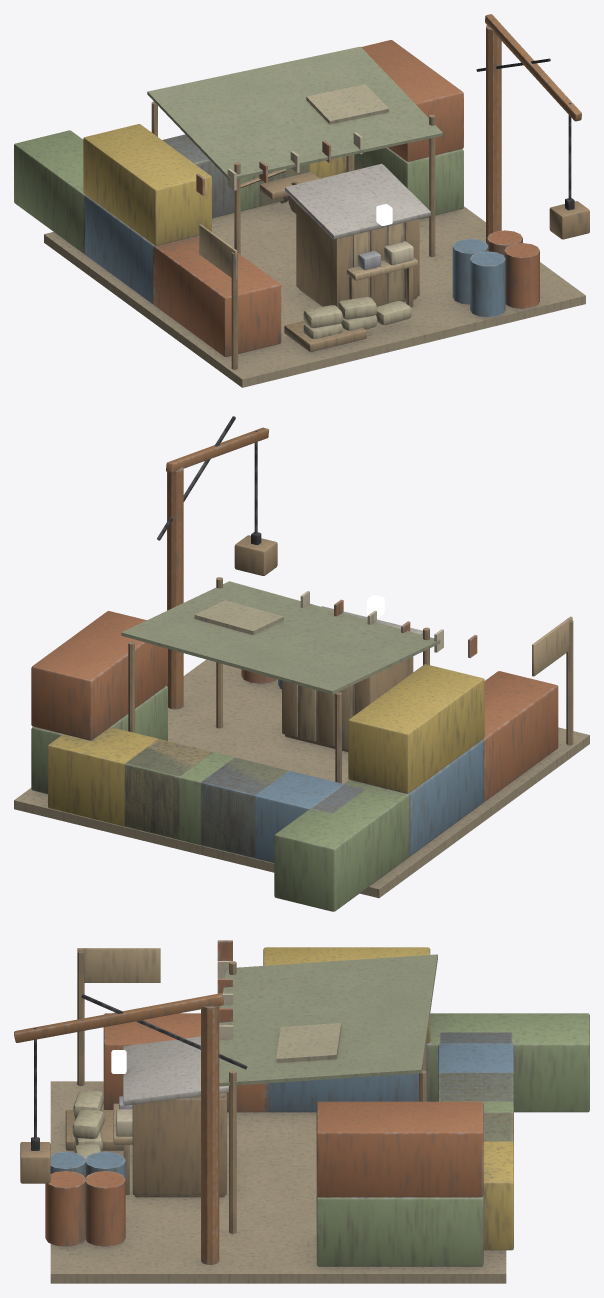
The model's file is shadow_supply.glb.
The picture shows the model from 3 angles, top to bottom: view 1: azimuth 30°, elevation 25°; view 2: azimuth 150°, elevation 25°; view 3: azimuth 270°, elevation 25°; orthographic projection. The views are drawn at different scales.
Parts seen in each view (by area): view 1: Hull; view 2: Hull; view 3: Hull.
Part boxes in pixels (box(x1,y1,x2,y2)): Hull: box(14, 14, 589, 387); Hull: box(14, 416, 589, 911); Hull: box(14, 940, 589, 1283).
Size of the model in its own units: 6 by 4.01 by 7.58.
Materials: 15 (15 with a texture image).
